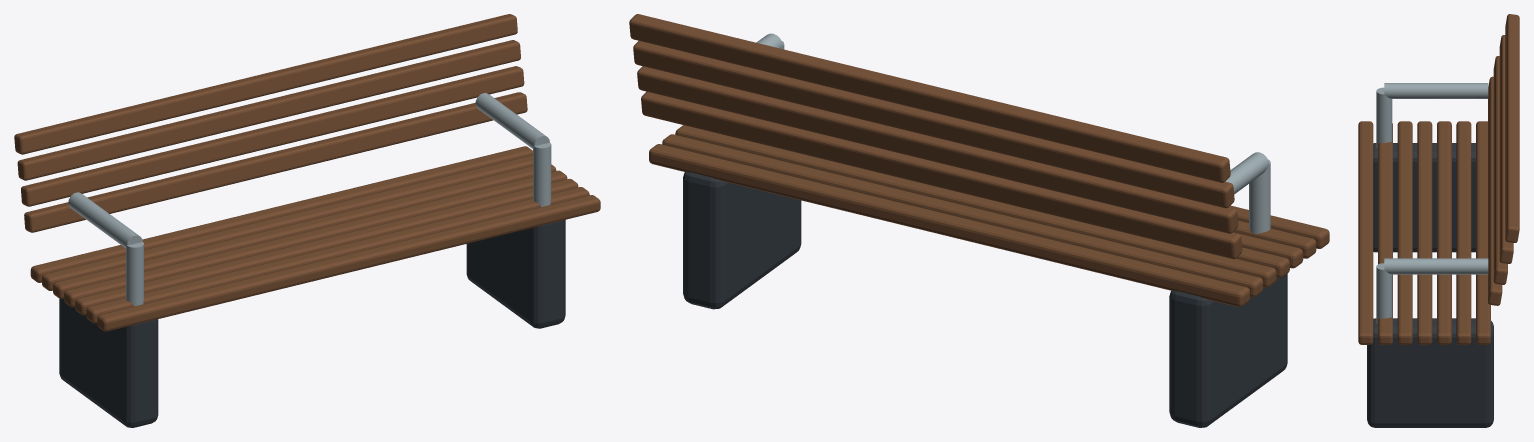
File: PromenadeBench.fbx
3 views of the same model, side by side, from view 1: azimuth 30°, elevation 25°; view 2: azimuth 150°, elevation 25°; view 3: azimuth 270°, elevation 25° (orthographic). The views are drawn at different scales.
Parts seen in each view (by area): view 1: PromenadeBench; view 2: PromenadeBench; view 3: PromenadeBench.
Boxes of the visible parts, left/top/right/bottom form: PromenadeBench: left=14, top=14, right=600, bottom=427; PromenadeBench: left=629, top=14, right=1329, bottom=427; PromenadeBench: left=1358, top=14, right=1519, bottom=427.
Size of the model in its own units: 220 by 103 by 69.85.
